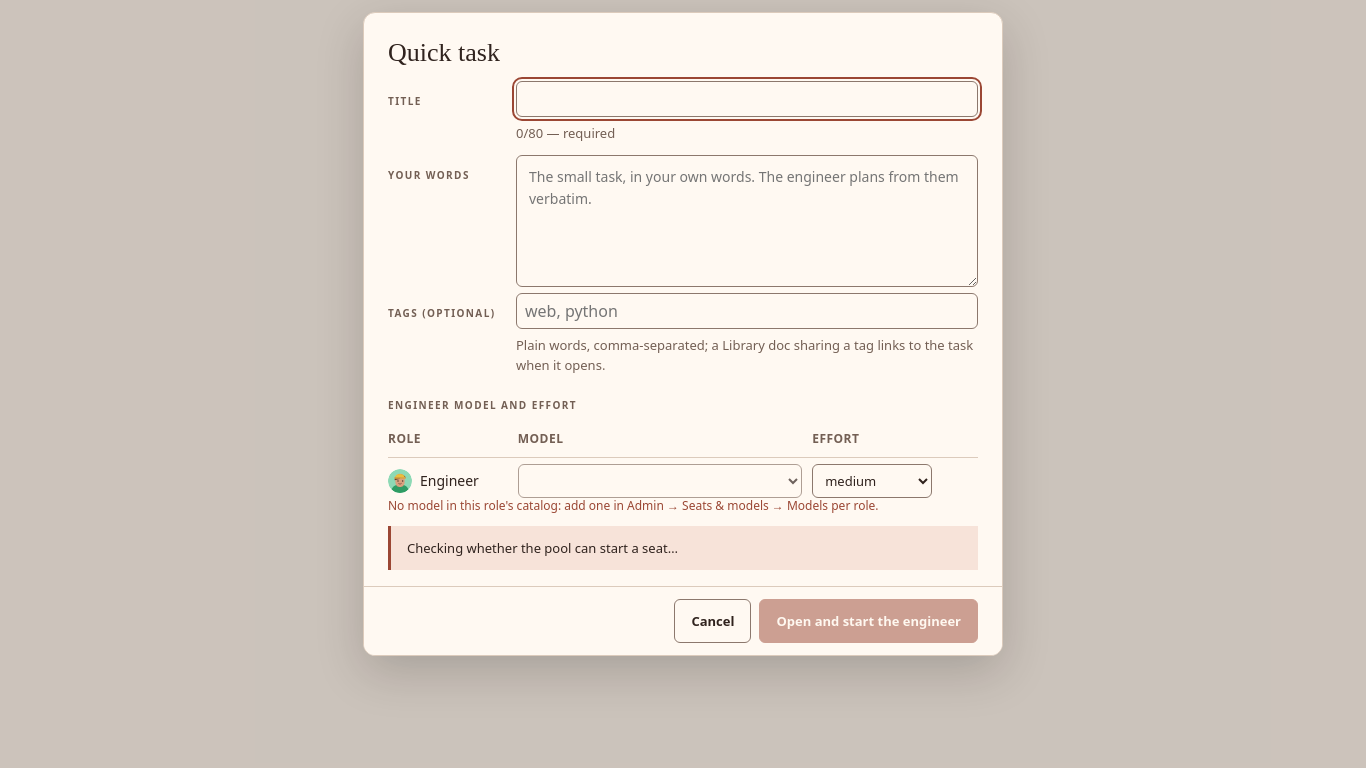
Scenario: QuickTaskDialog (S-QUICK) › keeps the dialog open with the board's hint and a link when the ticket opened but no engineer started
The width and height of the screenshot is (1366, 768).
Type "T" into the field with test id "quick-task-title" at (747, 99), box top-left (516, 81), bottom-right (978, 117)
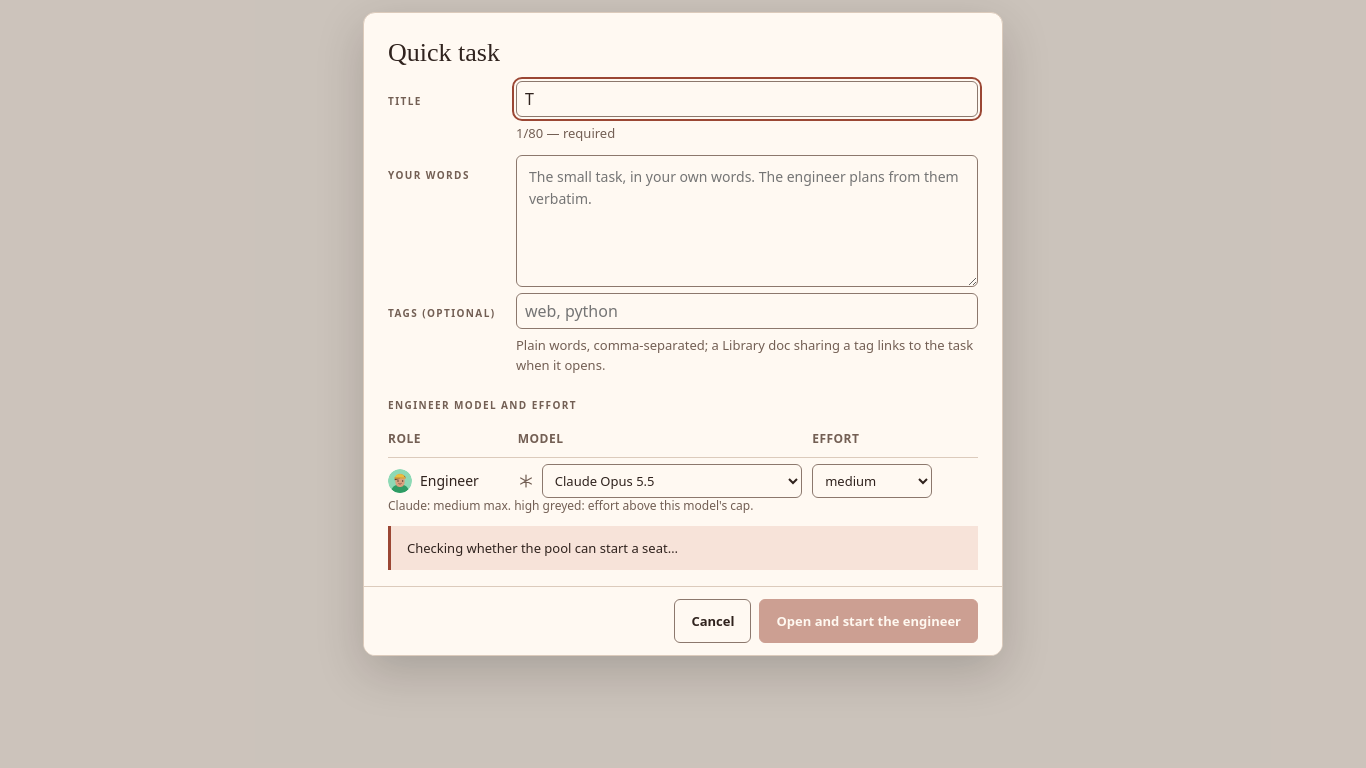
Replace the text in the text box with test id "quick-task-words" with "w" at (747, 221), box top-left (516, 155), bottom-right (978, 287)
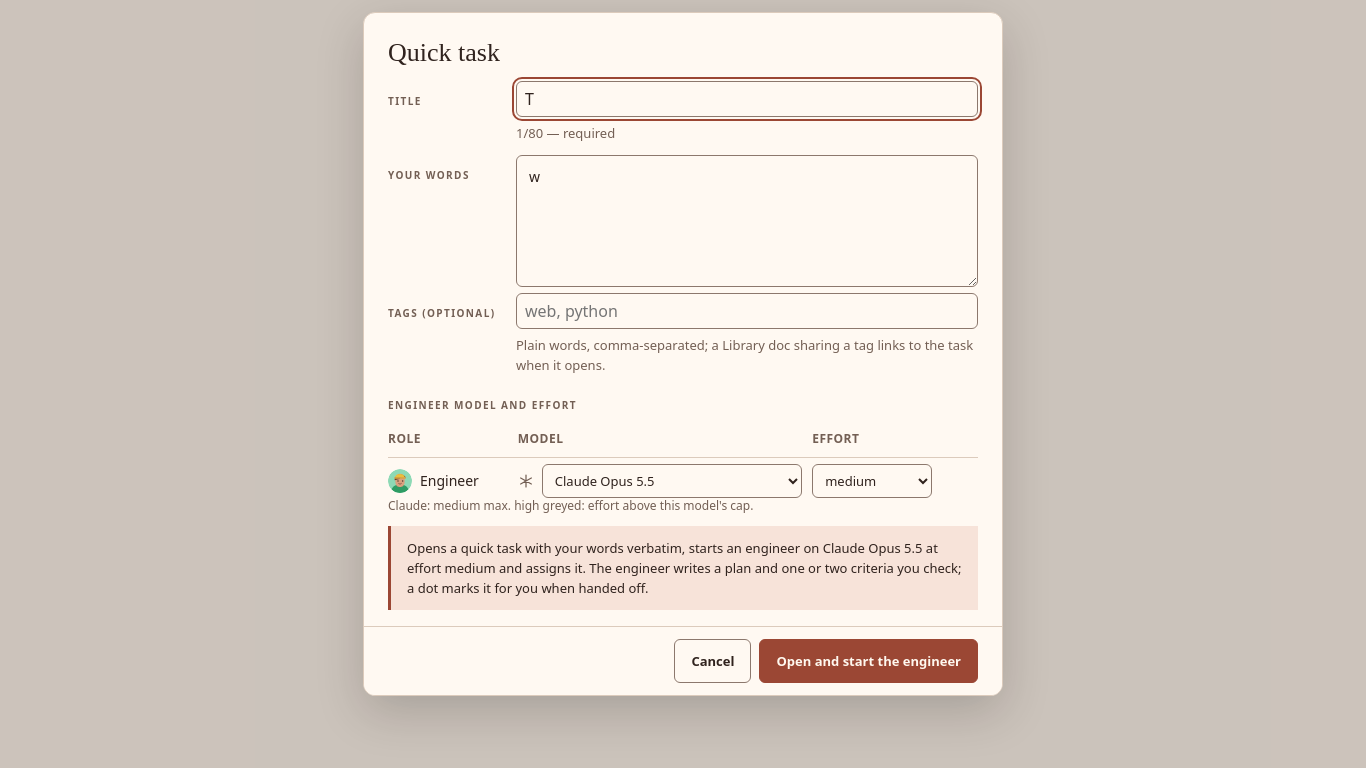
Expected: the button with test id "quick-task-create" is enabled
Click the button with test id "quick-task-create" at (869, 661), box top-left (760, 639), bottom-right (978, 683)
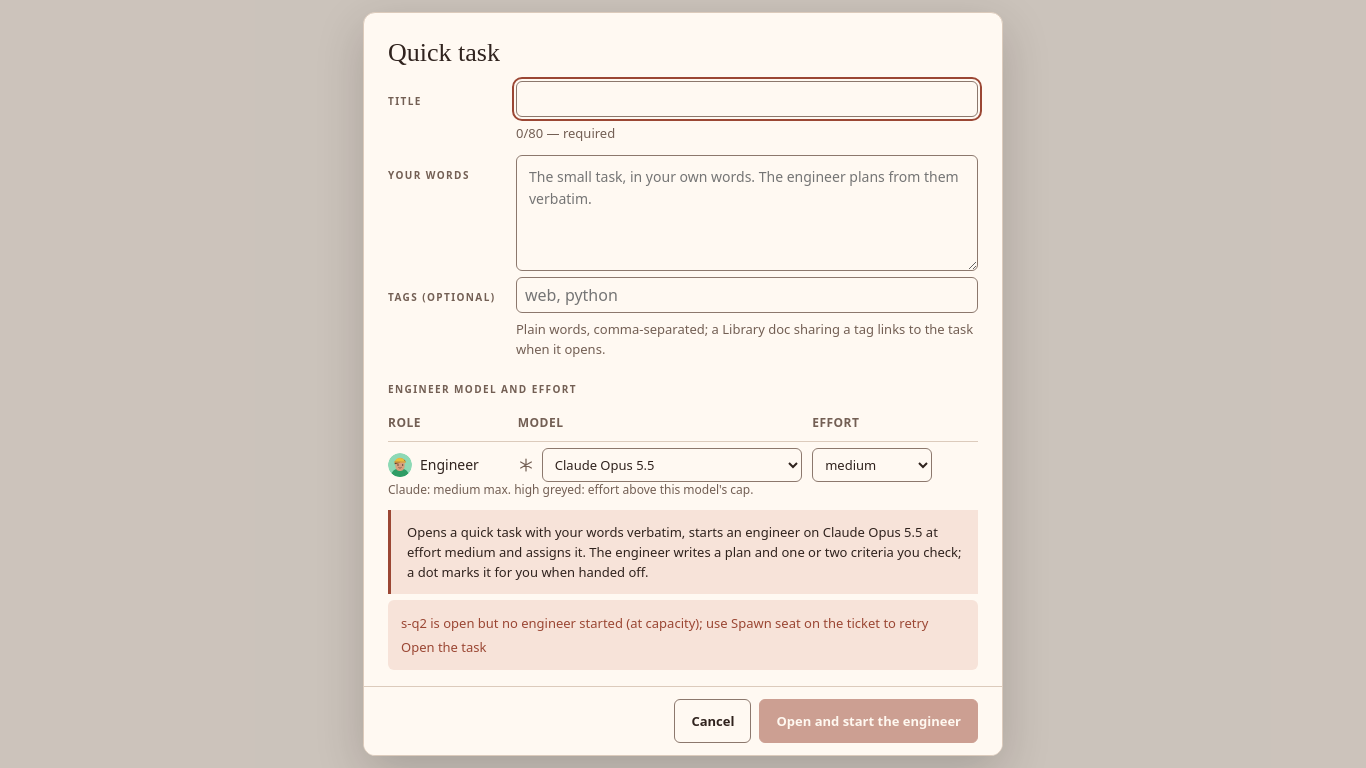
Expected: the message with test id "quick-task-stranded" shows "no engineer started (at capacity)", top-left (401, 614), bottom-right (928, 632)
Expected: the button with test id "quick-task-create" is disabled, top-left (760, 699), bottom-right (978, 743)
